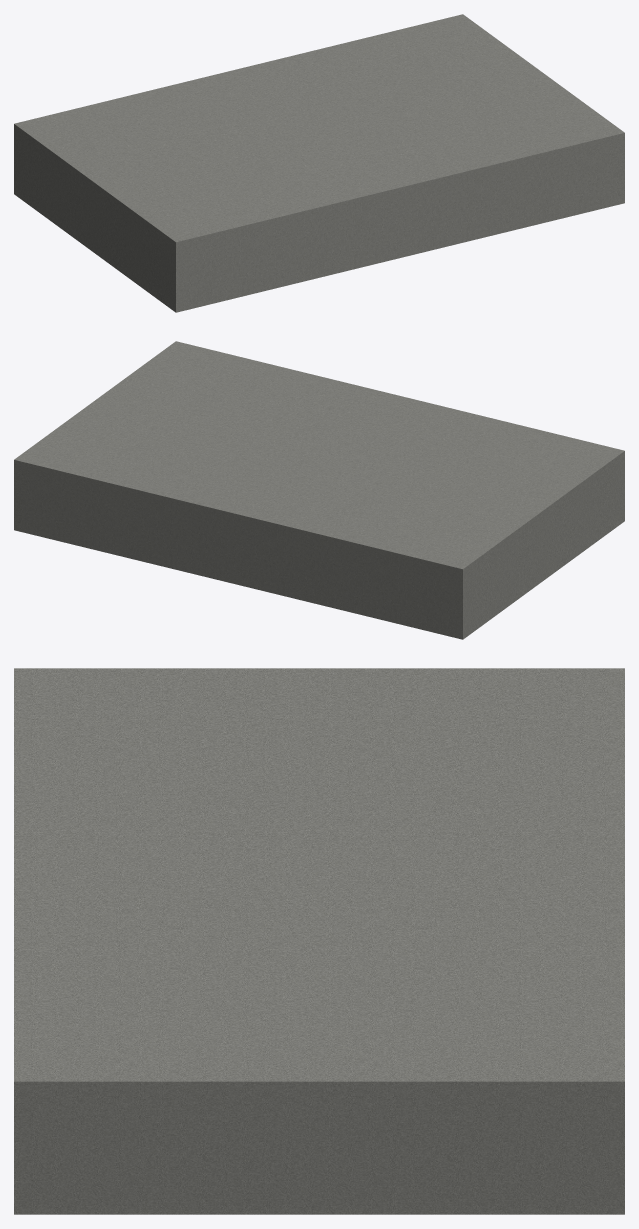
3 views of the same model, one above another, from view 1: azimuth 30°, elevation 25°; view 2: azimuth 150°, elevation 25°; view 3: azimuth 270°, elevation 25° (orthographic). The views are drawn at different scales.
Visible parts, largest first — view 1: wall_military_bunker_1u_lod0_run001; view 2: wall_military_bunker_1u_lod0_run001; view 3: wall_military_bunker_1u_lod0_run001.
Part boxes in pixels (x1,y1,x2,y2): wall_military_bunker_1u_lod0_run001: (14, 14, 624, 312); wall_military_bunker_1u_lod0_run001: (14, 341, 624, 639); wall_military_bunker_1u_lod0_run001: (14, 668, 624, 1214).
Bounding box in the file's own units: 4 × 0.6 × 2.5.
1 material, 1 textured.
